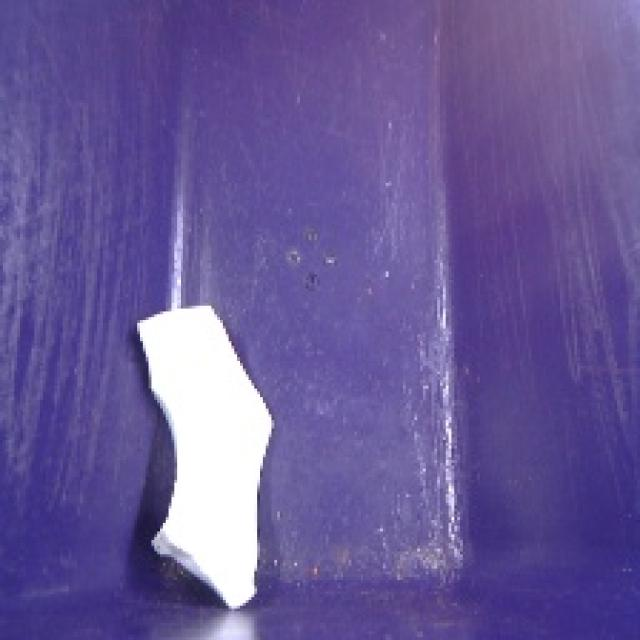china: (120, 291, 286, 622)
